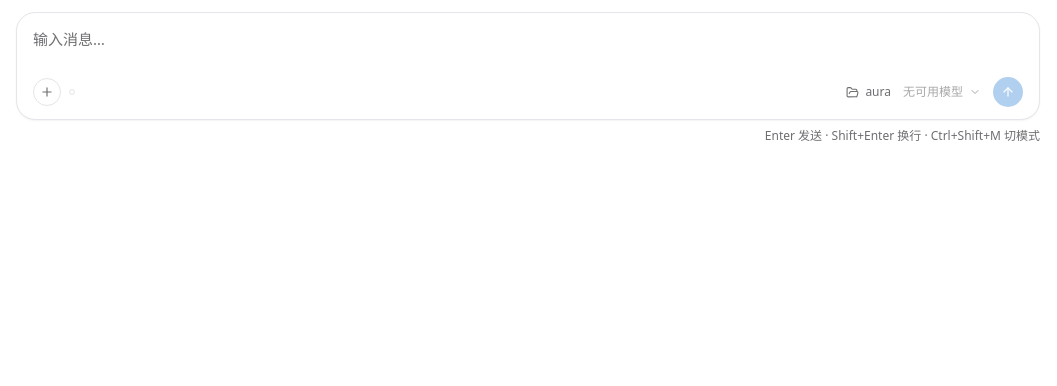
Test: InputArea 的 @ / 触发 › 打 / 列出 5 根命令，而不是技能列表
In the text box: (528, 49) [33,25,1023,73], type "/"
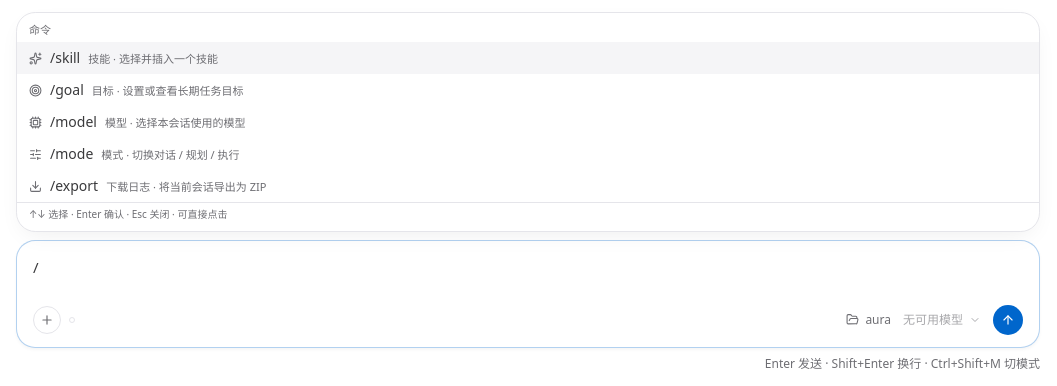
Result: the text "/skill" is shown at [50,48,80,68]
Result: the text "/goal" is shown at [50,80,84,100]
Result: the text "/model" is shown at [50,112,97,132]
